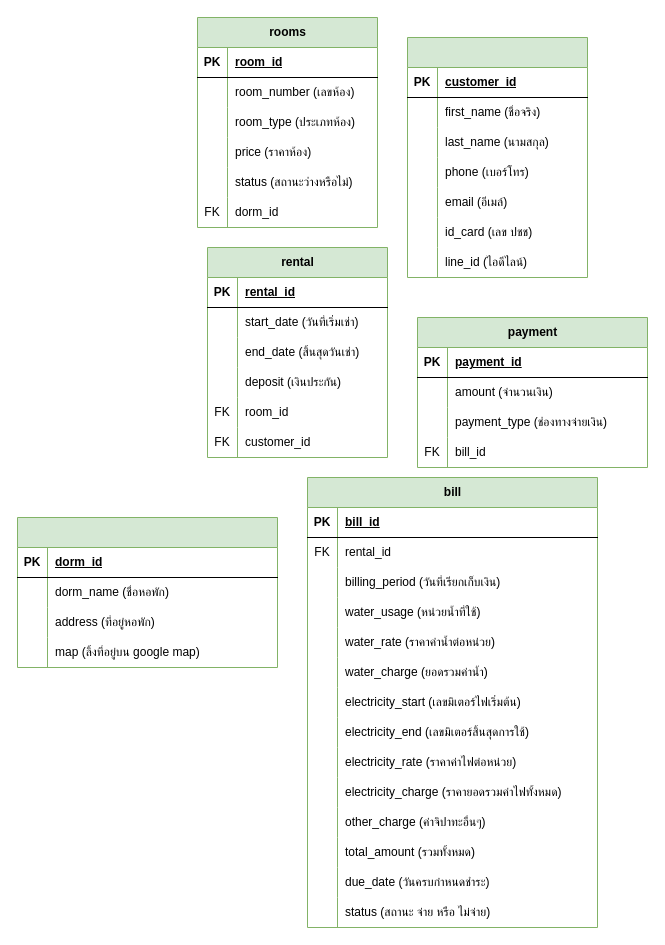
Image size: 665x945. Some labels were removed from this diagram. Here are the shapes that lost their labels. From the top down, the box of each, then its label:
(406, 36, 588, 278): customers
(16, 516, 278, 668): dormitory
